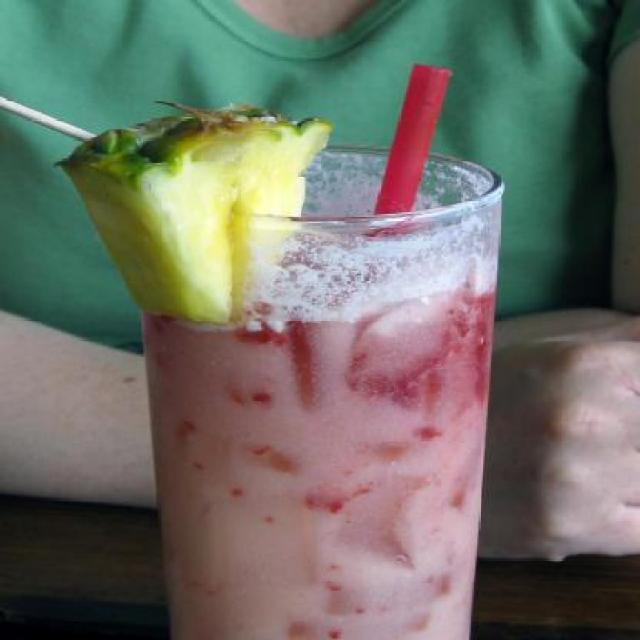Juice: (123, 154, 497, 640)
